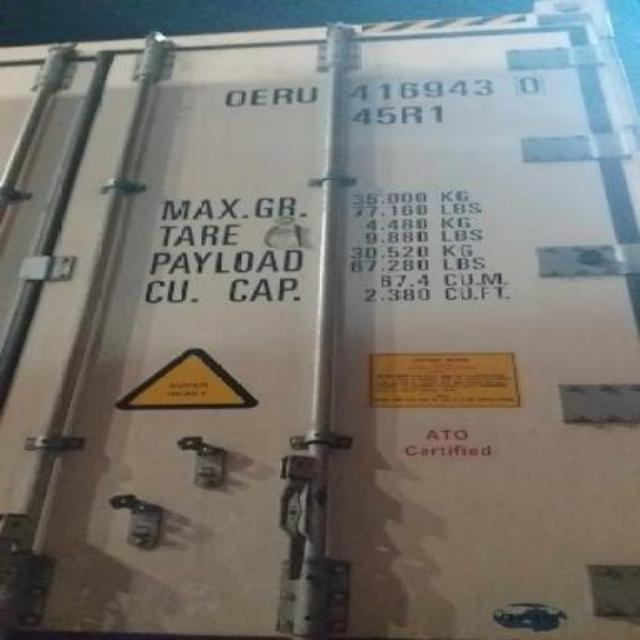0: (512, 70, 548, 94)
1: (376, 77, 392, 106)
3: (472, 75, 494, 99)
4: (444, 73, 470, 103), (338, 79, 370, 103)
6: (394, 75, 420, 102)
9: (422, 74, 448, 100)
E: (246, 82, 270, 108)
O: (226, 85, 248, 111)
R: (268, 83, 292, 107)
U: (294, 82, 316, 108)
